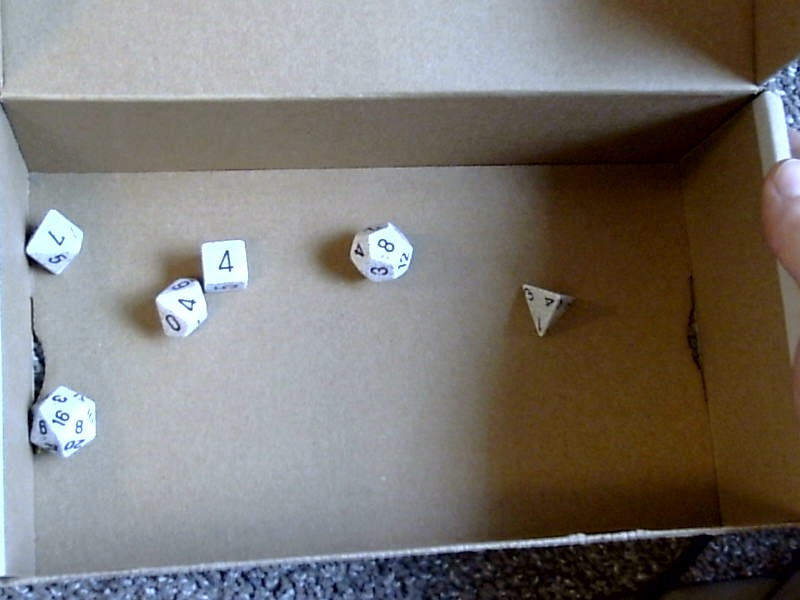d10 4: (143, 276, 207, 344)
d12 8: (341, 213, 424, 292)
d20 16: (16, 380, 104, 475)
d4 4: (516, 273, 580, 347)
d6 4: (197, 231, 255, 293)
d8 7: (18, 202, 92, 281)
